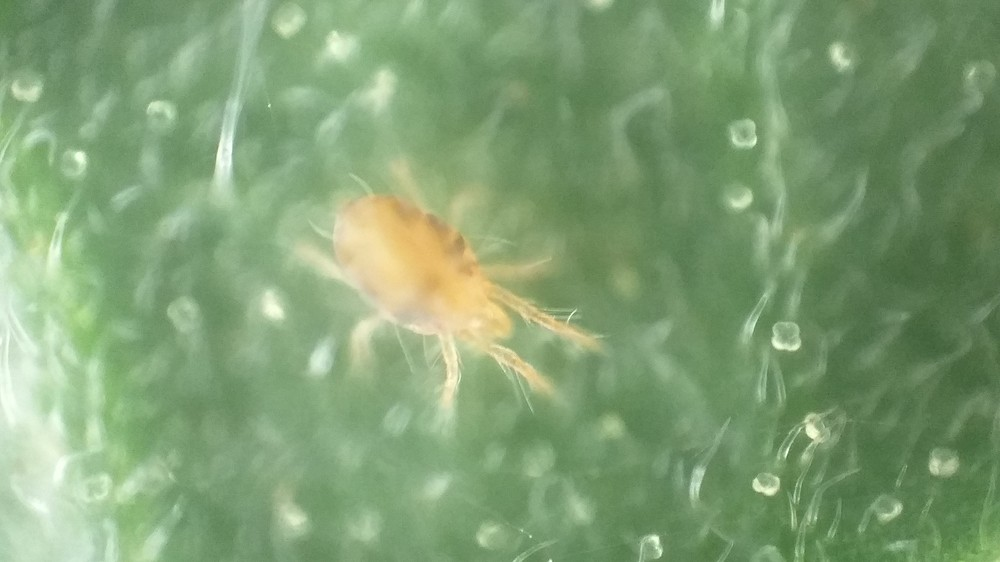Aracnido Rojo: (270, 158, 618, 435)
